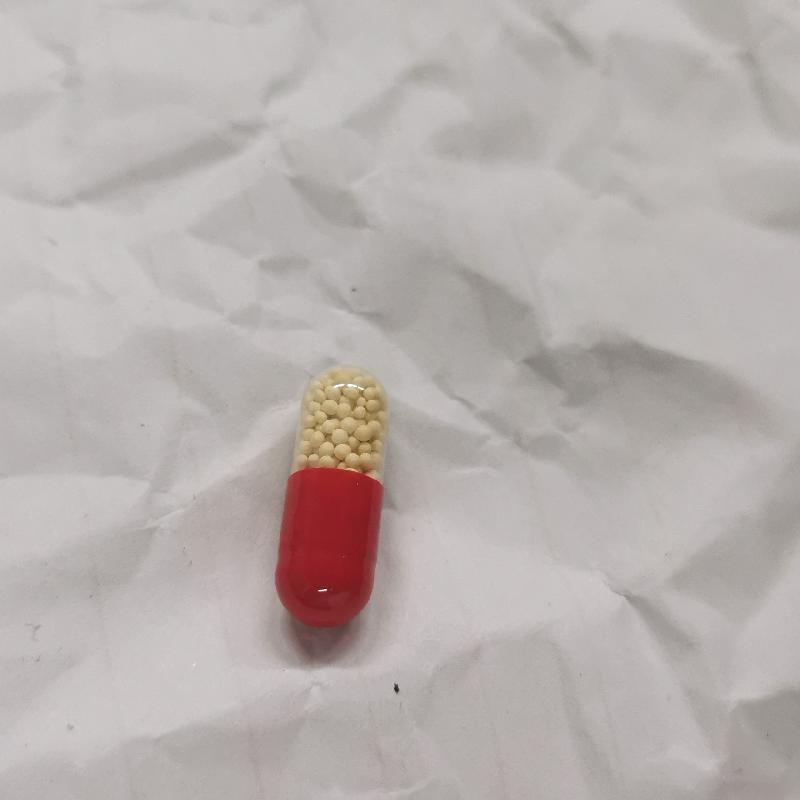pills: (275, 359, 392, 636)
